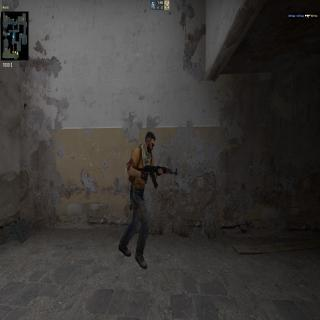T-Head: (145, 128, 157, 156)
